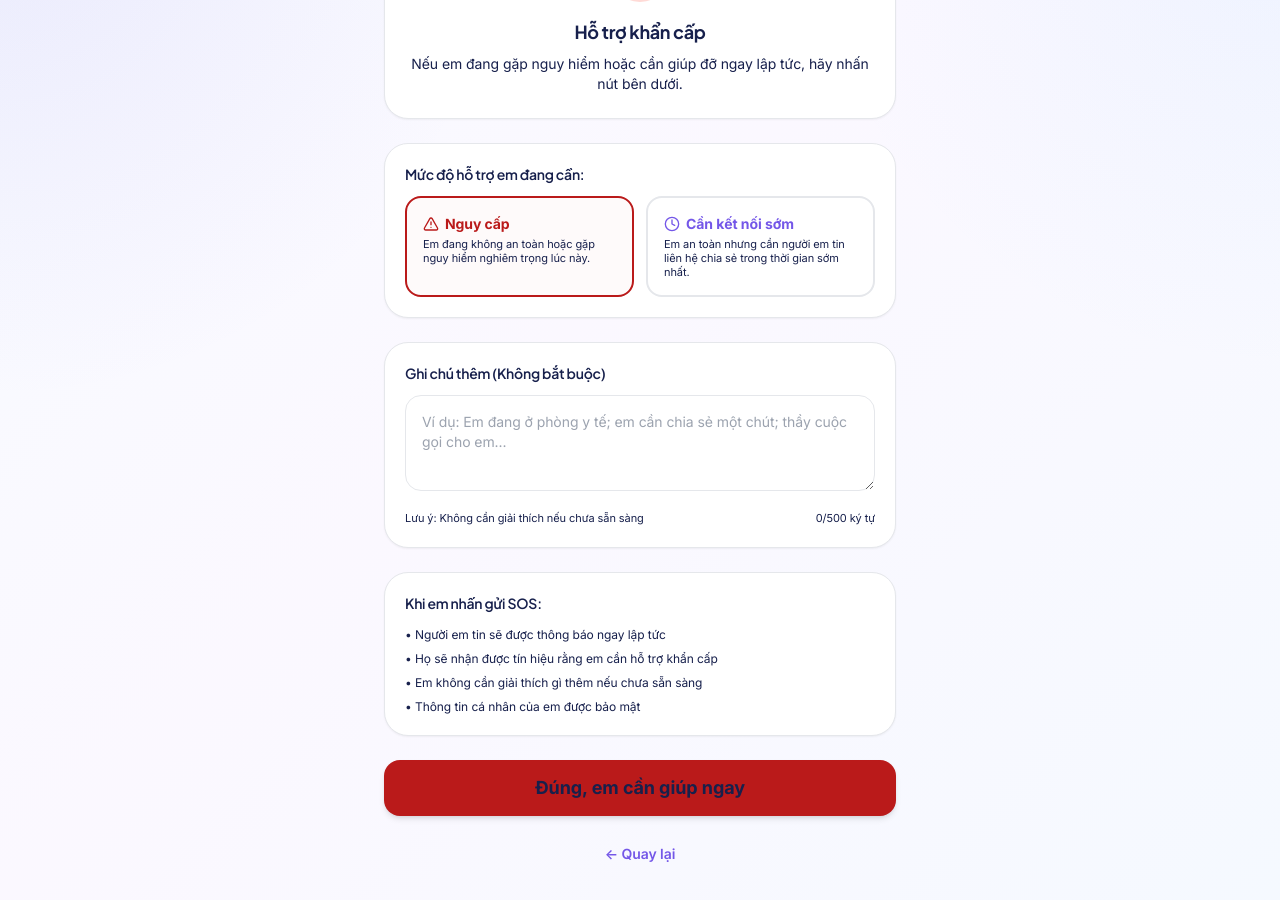
Test case: Phase 4 student SOS UI › shows the redesigned SOS page, sends an urgent alert, and displays the sent state
(page scrolled)
Check: the heading "Hỗ trợ khẩn cấp" is shown, box [574, 20, 706, 43]
Check: the text "Nếu em đang gặp nguy hiểm hoặc cần giúp đỡ ngay lập tức, hãy nhấn nút bên dưới." is shown, box [409, 54, 871, 94]
What coordinates should you click on to do the following:
click the button "Đúng, em cần giúp ngay"
I would click on:
 (640, 788)
Its box is [384, 760, 896, 816].
(page scrolled)
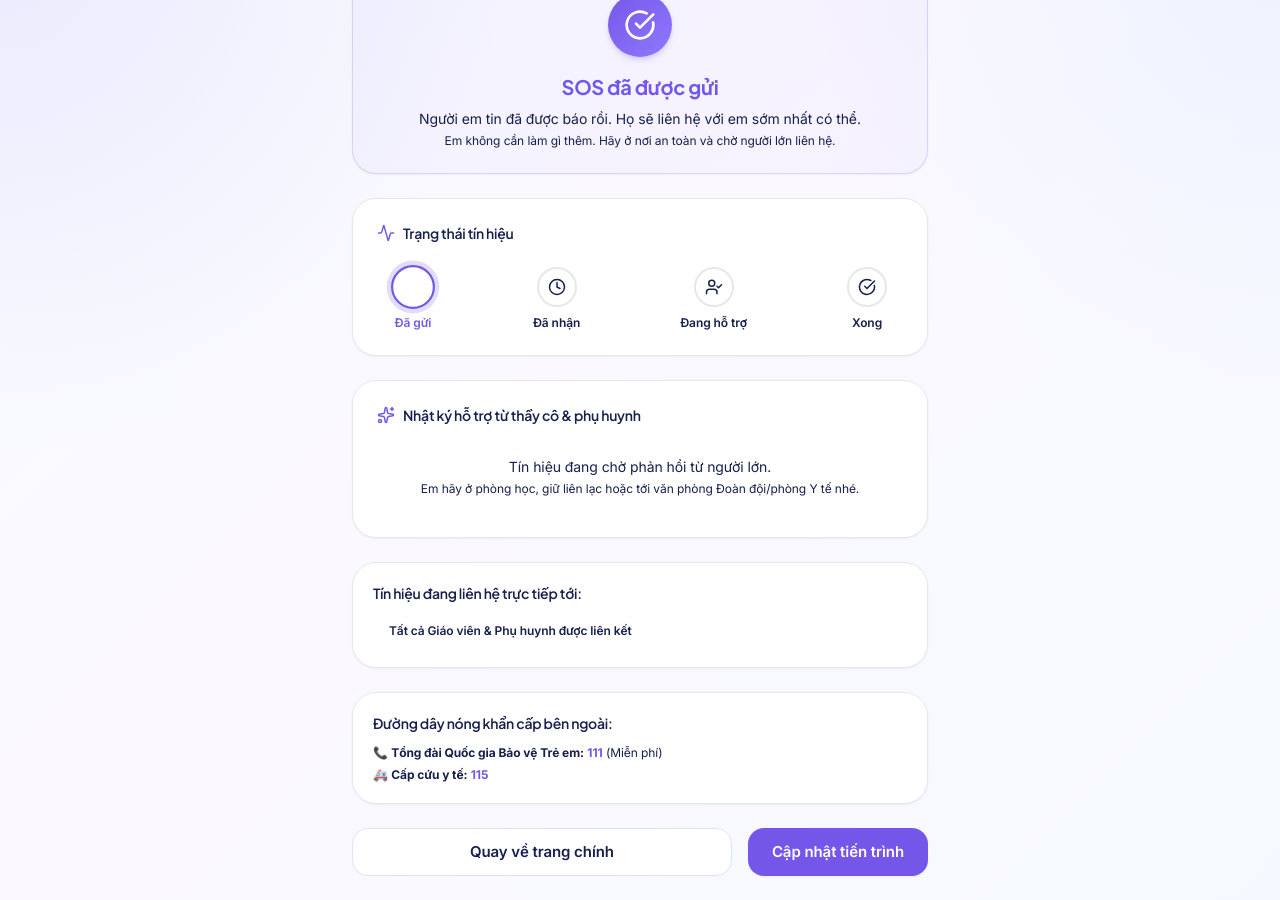
Check: the heading "SOS đã được gửi" is shown, box [562, 74, 718, 99]
Check: the text "Người em tin đã được báo rồi. Họ sẽ liên hệ với em sớm nhất có thể." is shown, box [419, 110, 861, 127]
